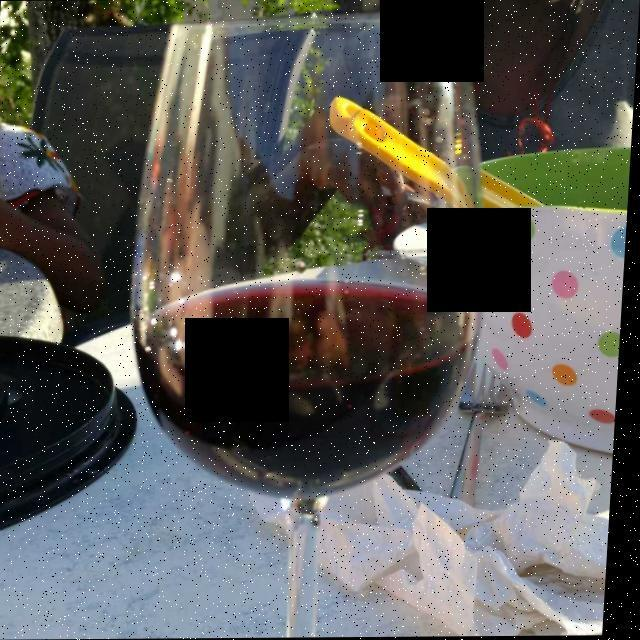wine: (150, 272, 540, 513)
